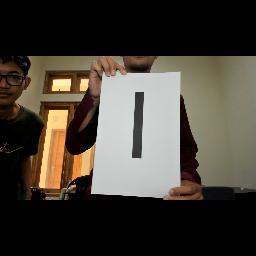i: (123, 86, 147, 164)
